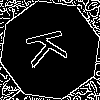K: (25, 25, 77, 68)
